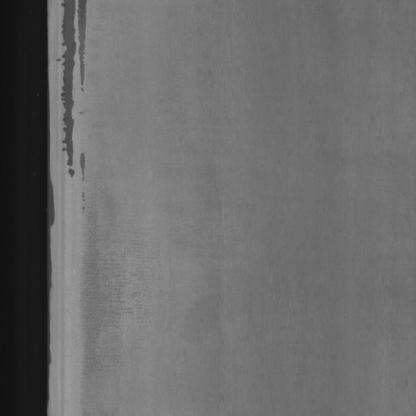oil_spot: (59, 1, 98, 206)
